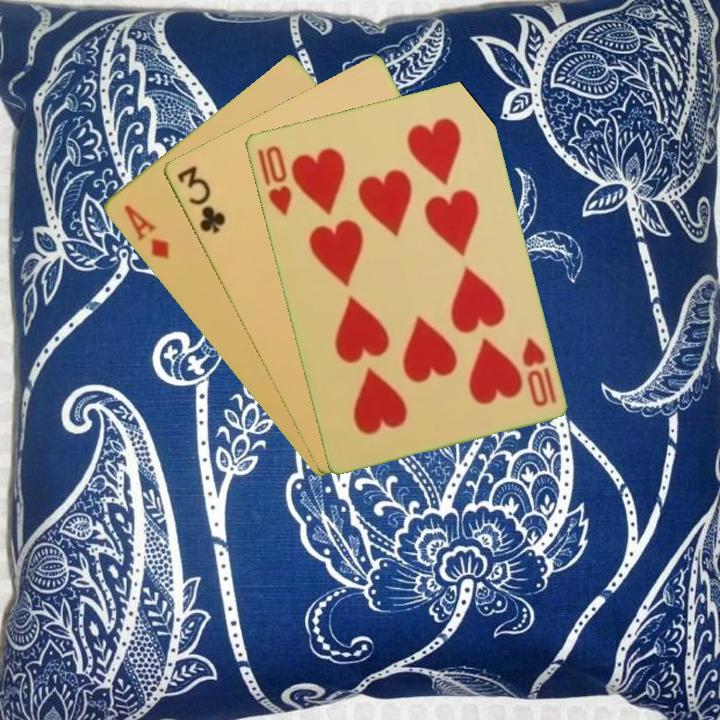10h: (253, 141, 294, 218), (518, 333, 559, 409)
3c: (173, 162, 228, 236)
Ad: (119, 200, 172, 262)
